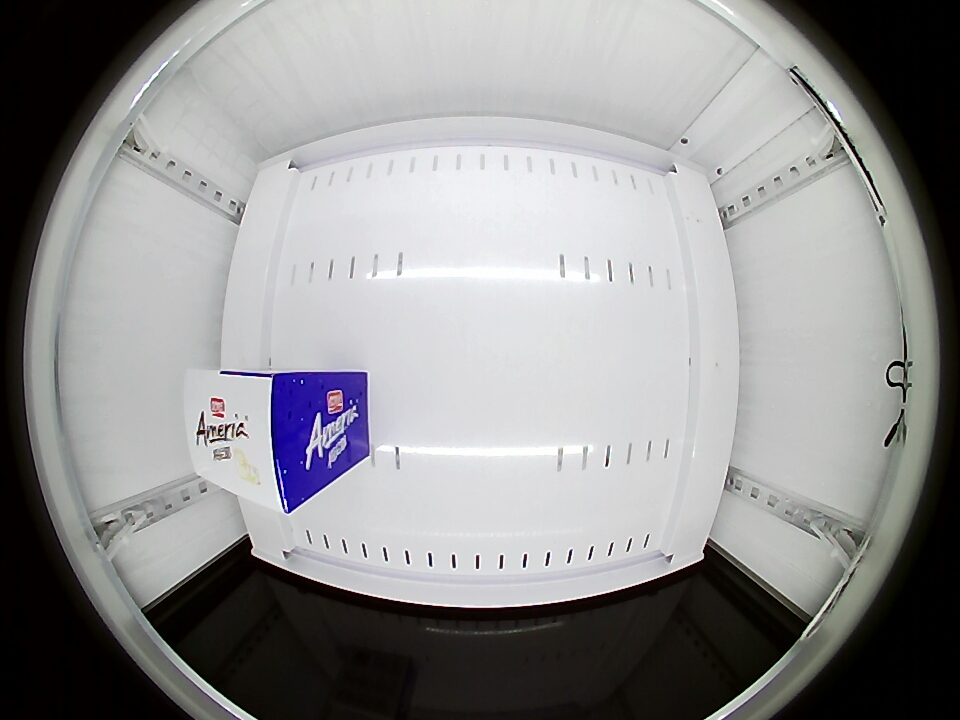meiniye: (187, 371, 327, 515)
